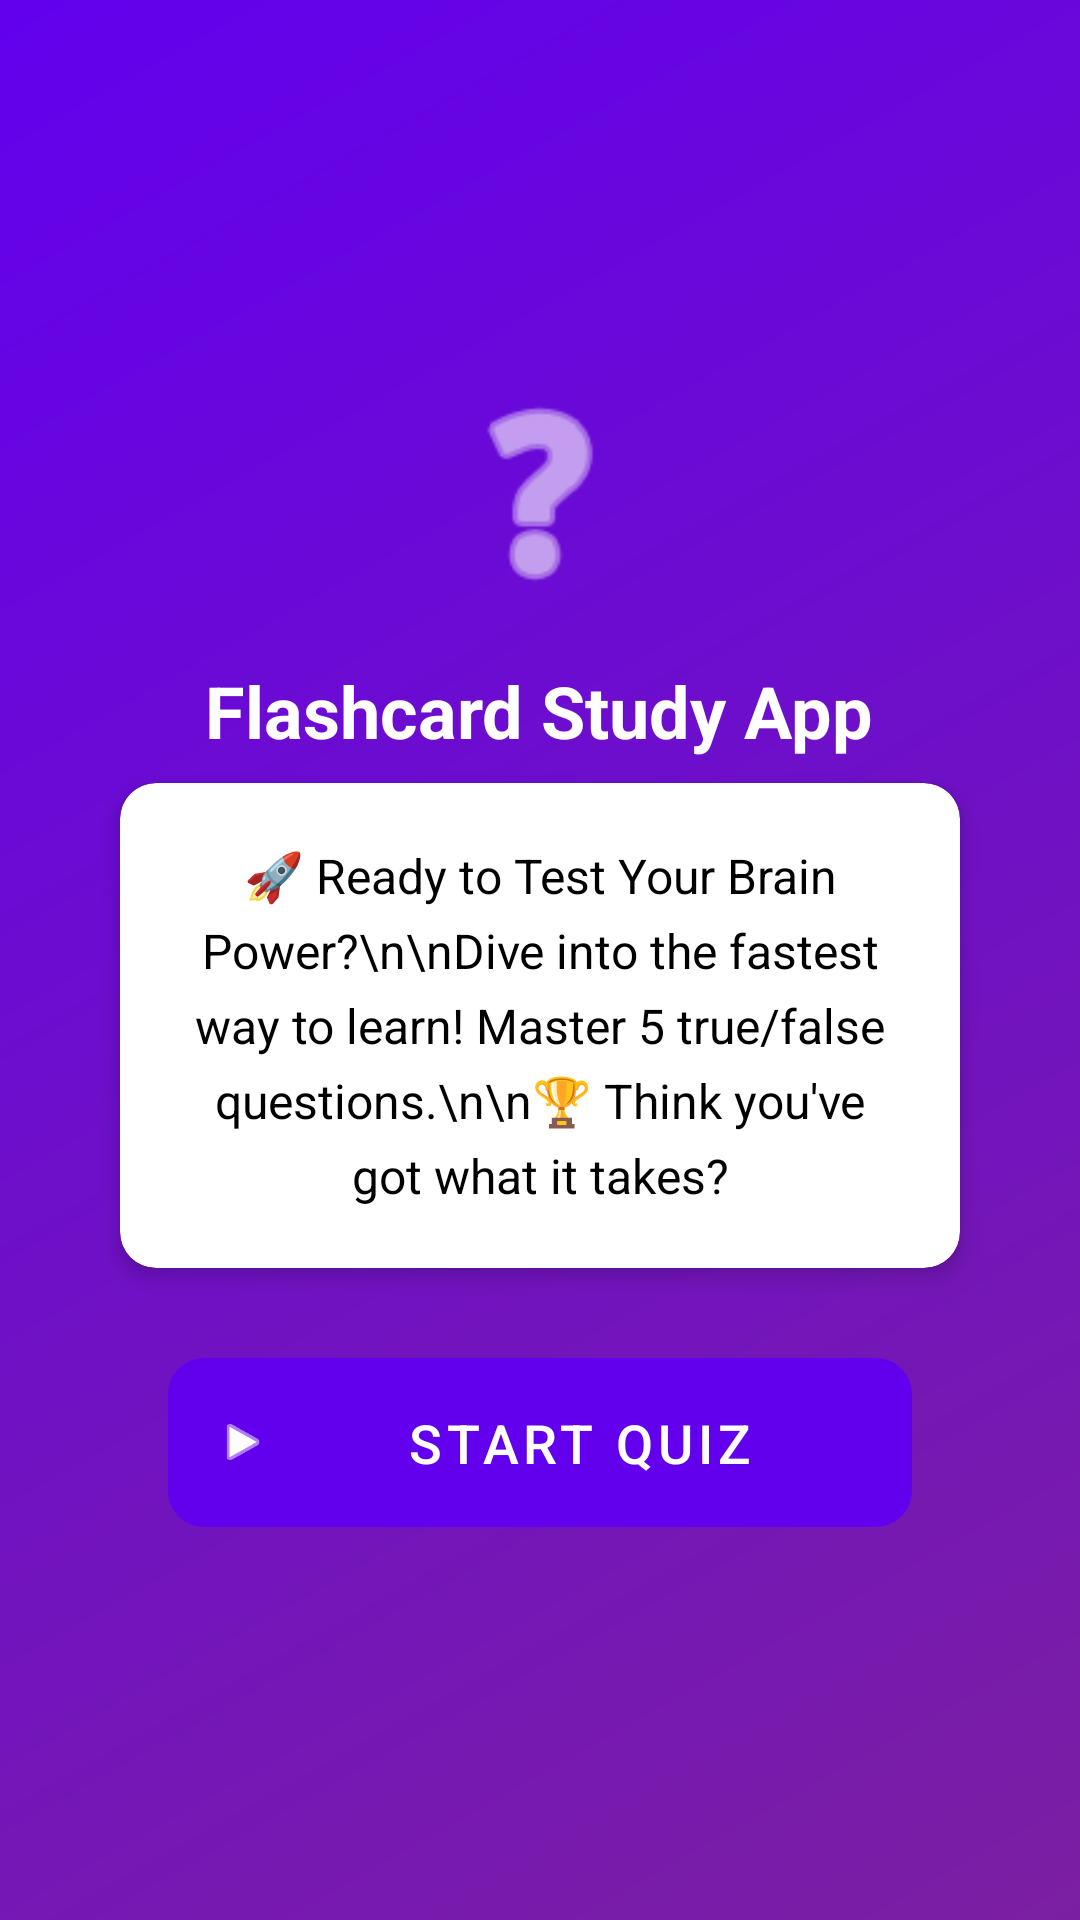

Screen size 1080px x 1920px. Icon name, then its center in pixels as (x,y):
help: (540,494)
